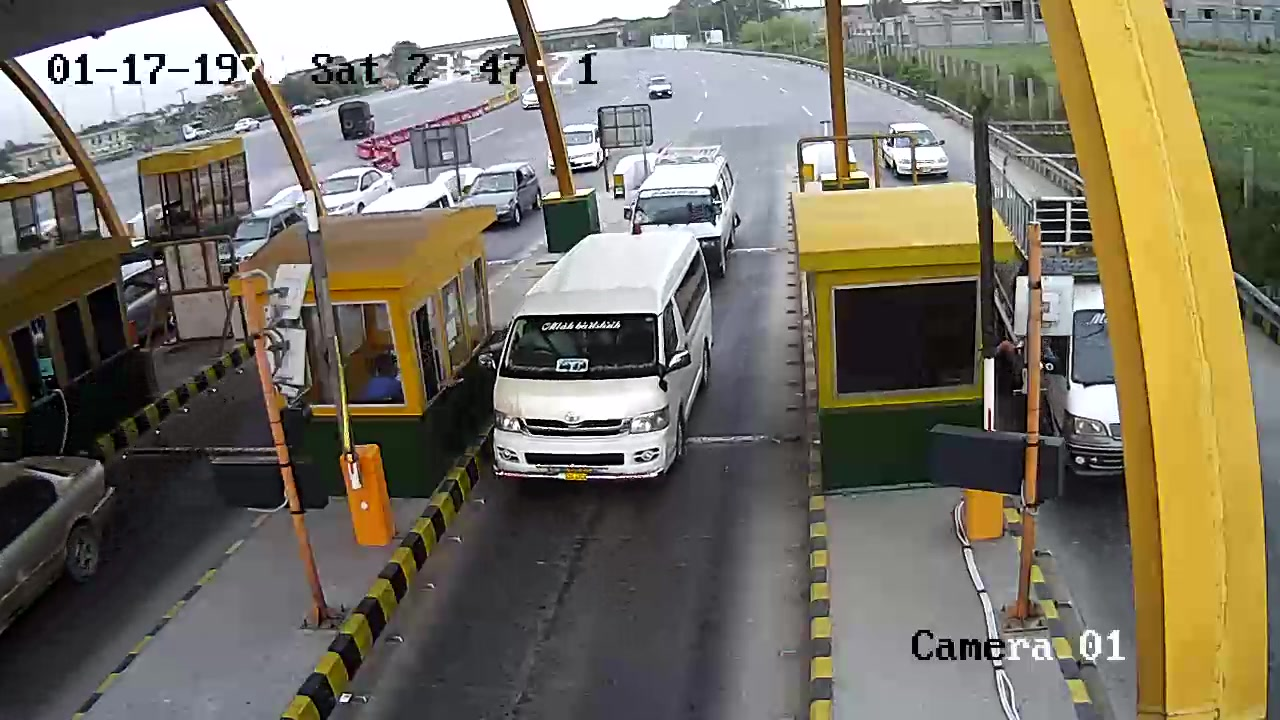F3: (483, 223, 713, 497)
